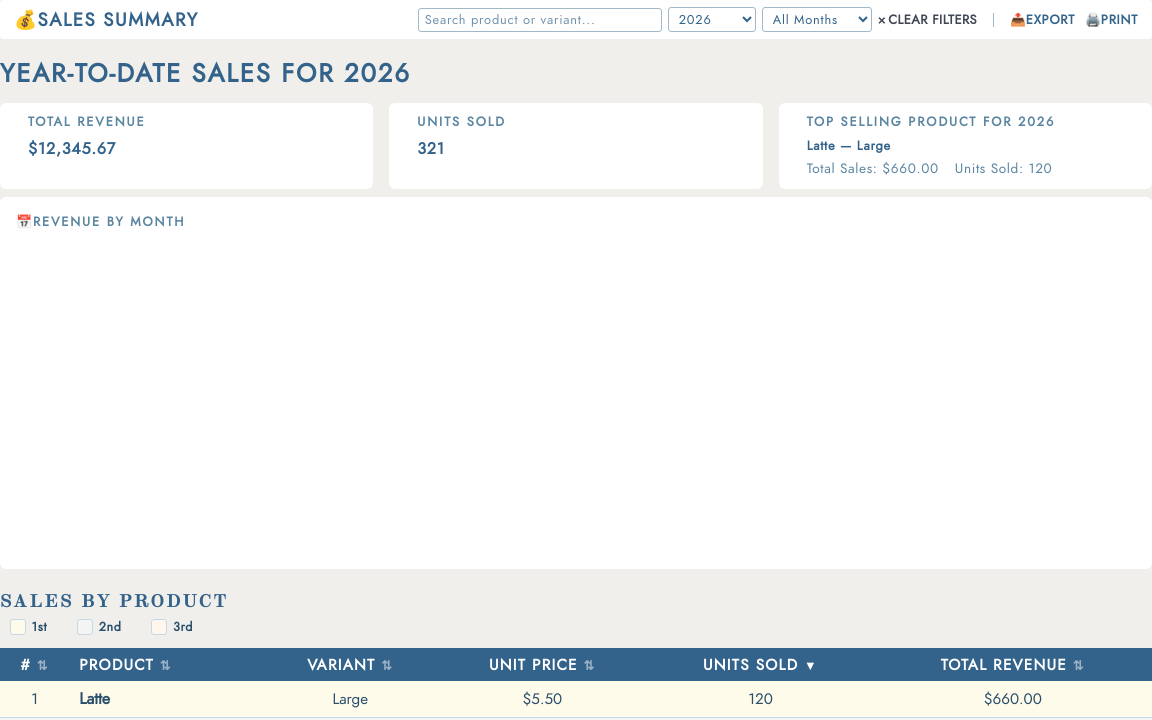
Test case: US5.4 Sales Summary Dashboard › clearing search restores all product rows
Expected: the text "$12,345.67" is shown, [28,138,116,160]
In the field with placeholder "Search product or variant...": (540, 20) [418,8,662,32], type "latte"
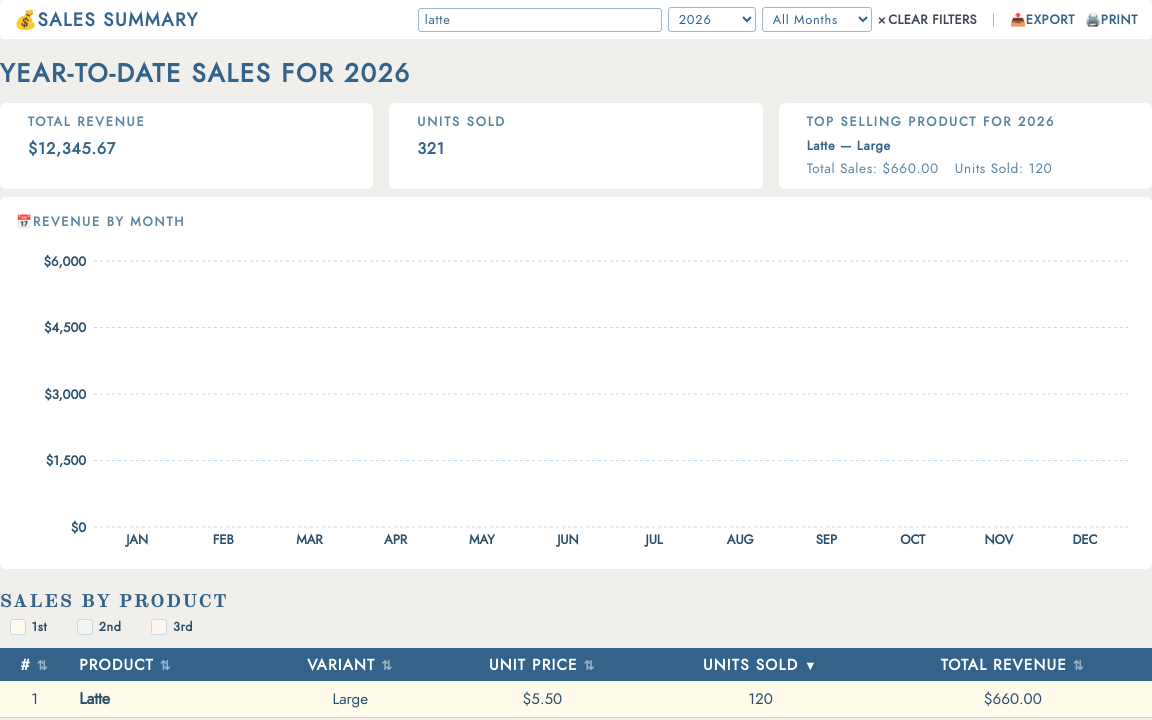
Expected: the text "Mocha" is not shown
Clear the field with placeholder "Search product or variant...": (540, 20) [418,8,662,32]
(page scrolled)
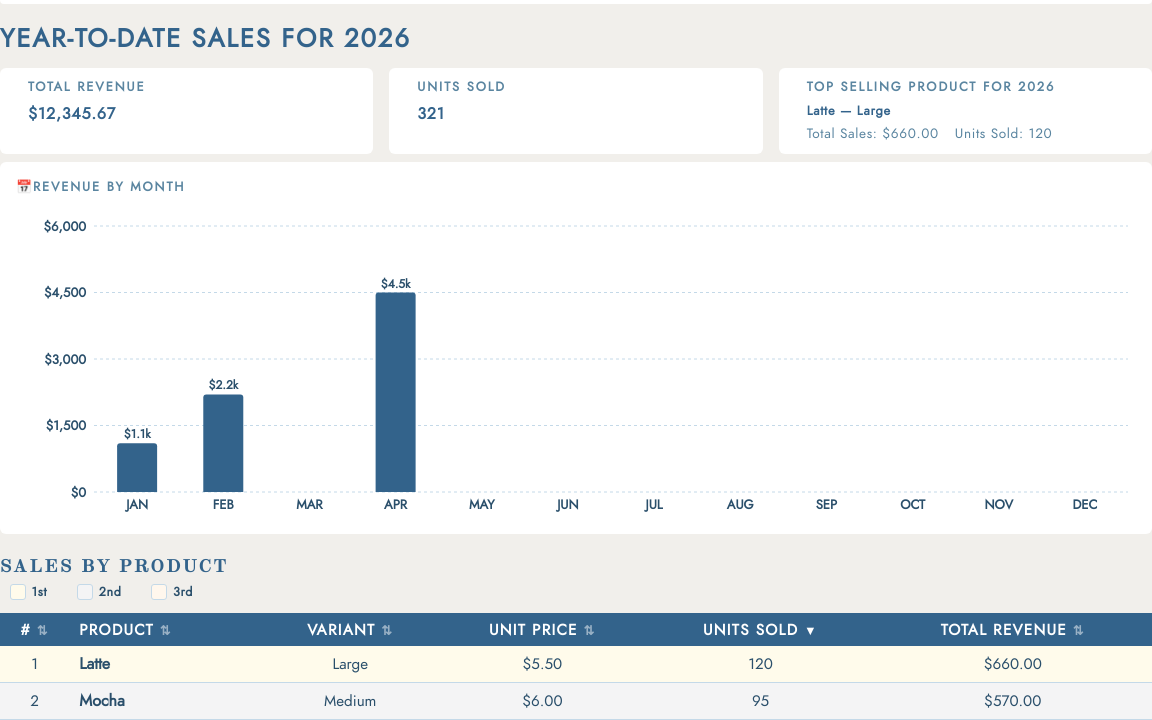
Expected: the text "Mocha" is shown, [69,682,263,719]
